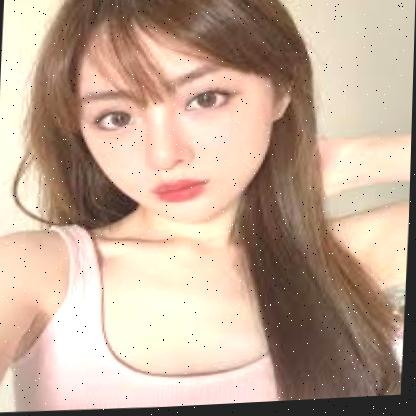person: (57, 0, 302, 227)
